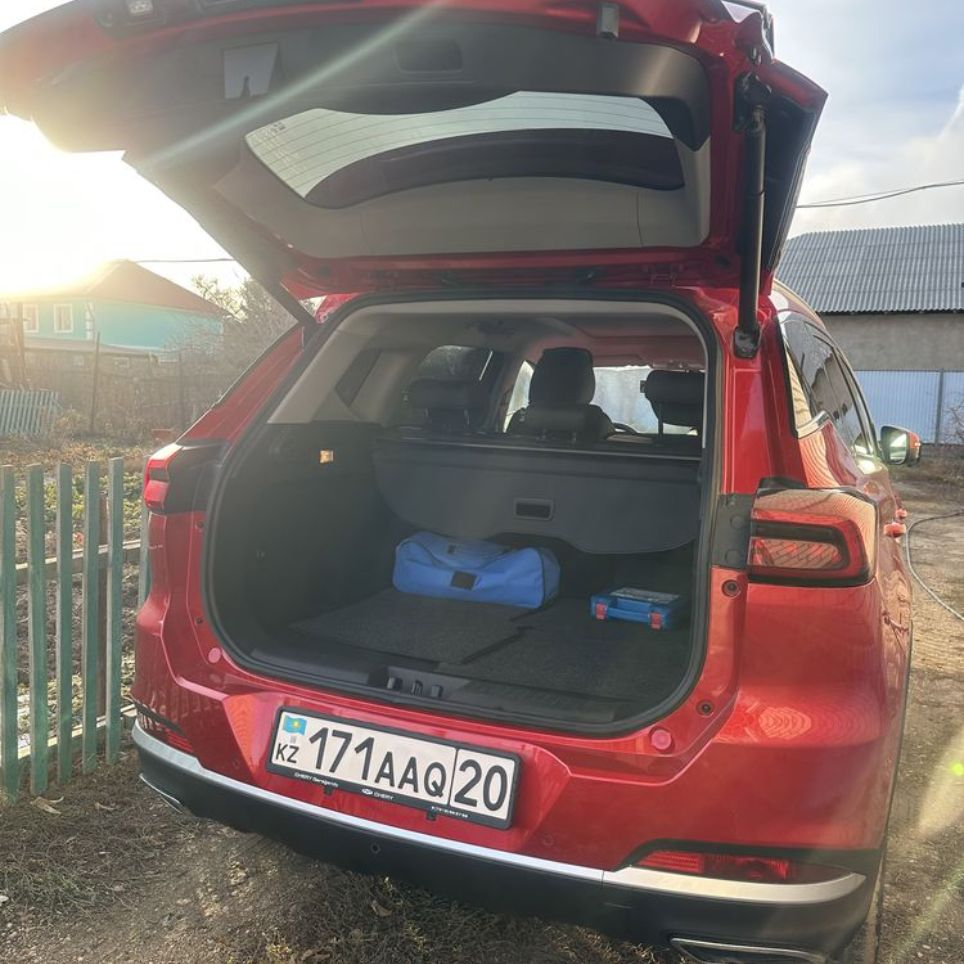license plate: (263, 705, 517, 827)
truck: (145, 178, 869, 956)
